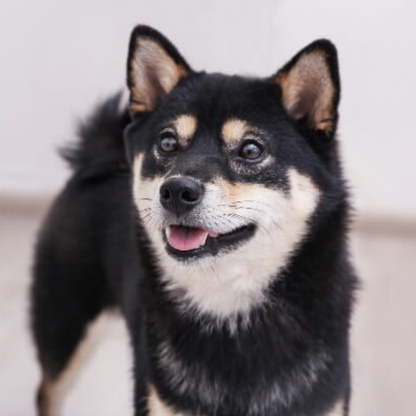shiba: (18, 15, 367, 416)
